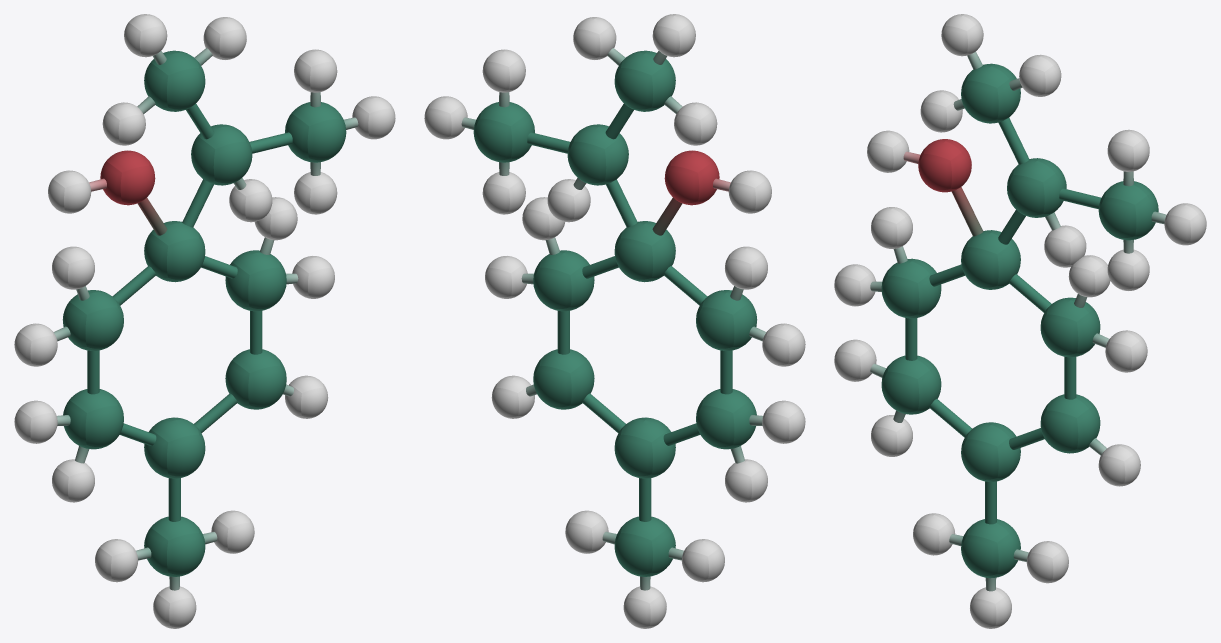
The model's file is Terpinen-4-ol.fbx.
3 renders of one model, left to right at view 1: azimuth 30°, elevation 25°; view 2: azimuth 150°, elevation 25°; view 3: azimuth 330°, elevation 25°, orthographic. The views are drawn at different scales.
Visible parts, largest first — view 1: curMeshHyperballExportedMesh; view 2: curMeshHyperballExportedMesh; view 3: curMeshHyperballExportedMesh.
Part boxes in pixels (box(x1,y1,x2,y2)): curMeshHyperballExportedMesh: box(14, 14, 395, 628); curMeshHyperballExportedMesh: box(424, 14, 805, 628); curMeshHyperballExportedMesh: box(834, 14, 1206, 628).
Bounding box in the file's own units: 4 × 6.29 × 0.5667.
